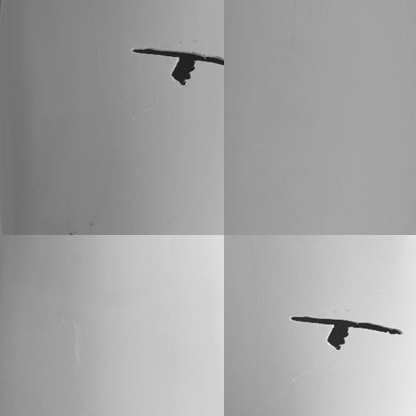kongdong: (290, 313, 403, 357), (130, 43, 224, 85)
